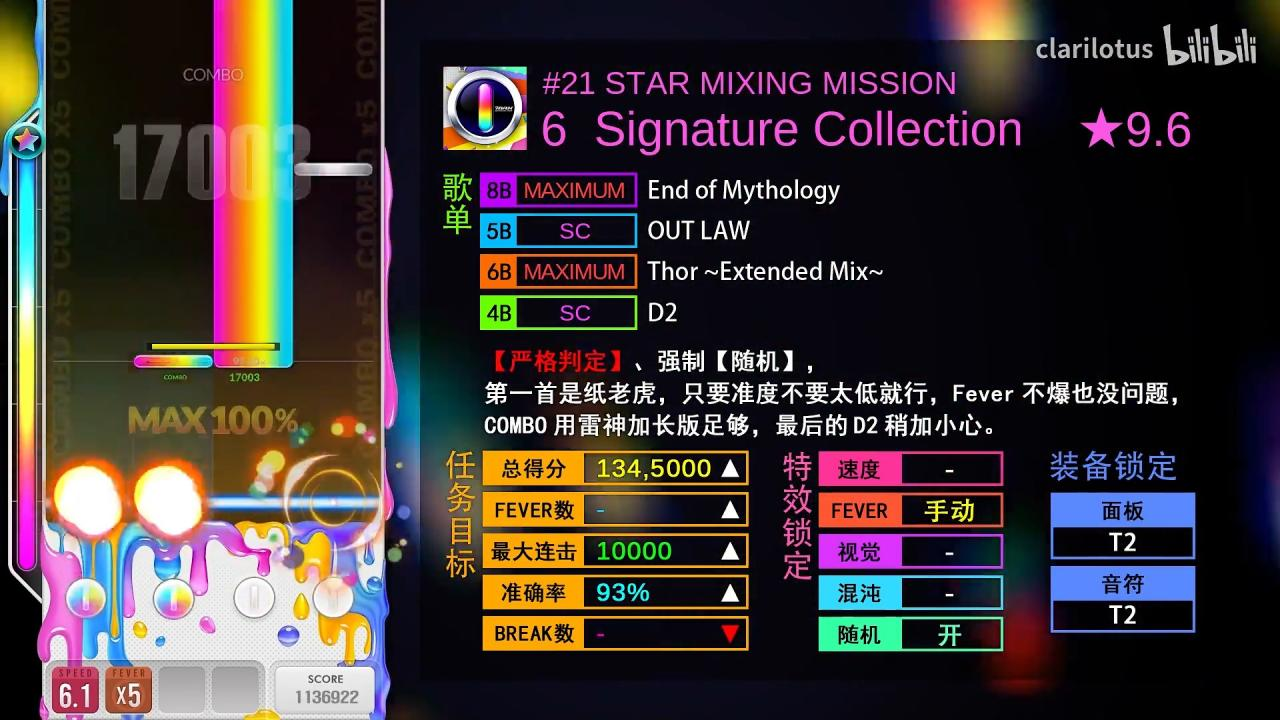hold-start: (214, 353, 294, 369)
note: (133, 354, 213, 368), (294, 163, 372, 177)
